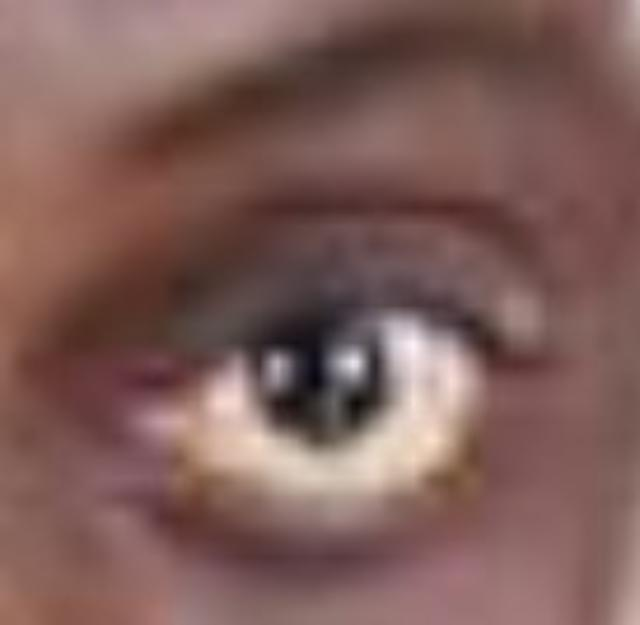eye: (250, 298, 390, 452)
